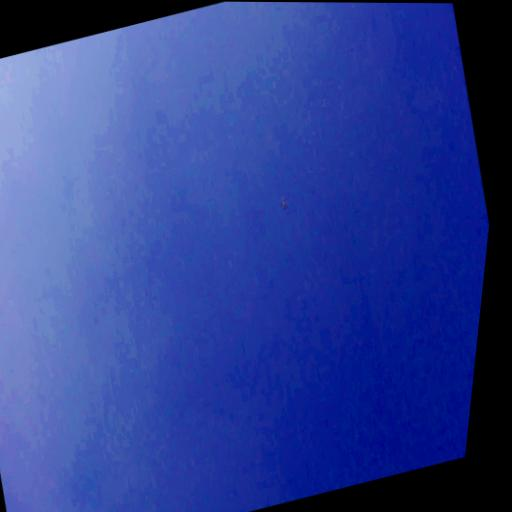drones: (277, 195, 290, 211)
